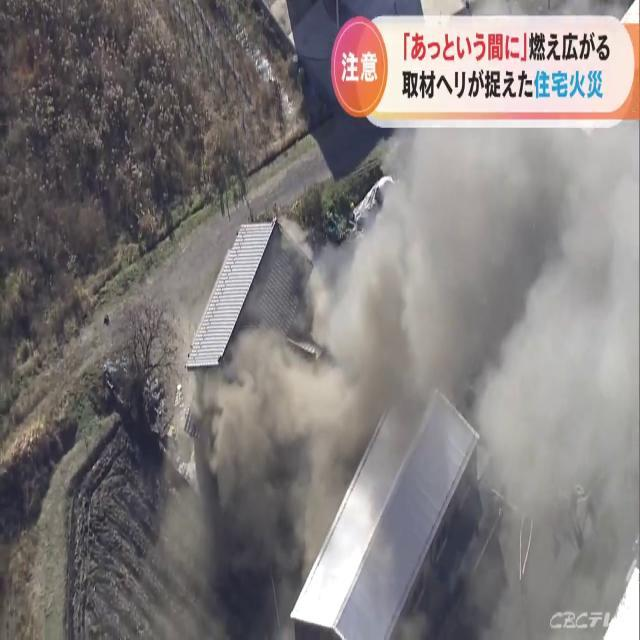Smoke: (215, 122, 638, 630)
